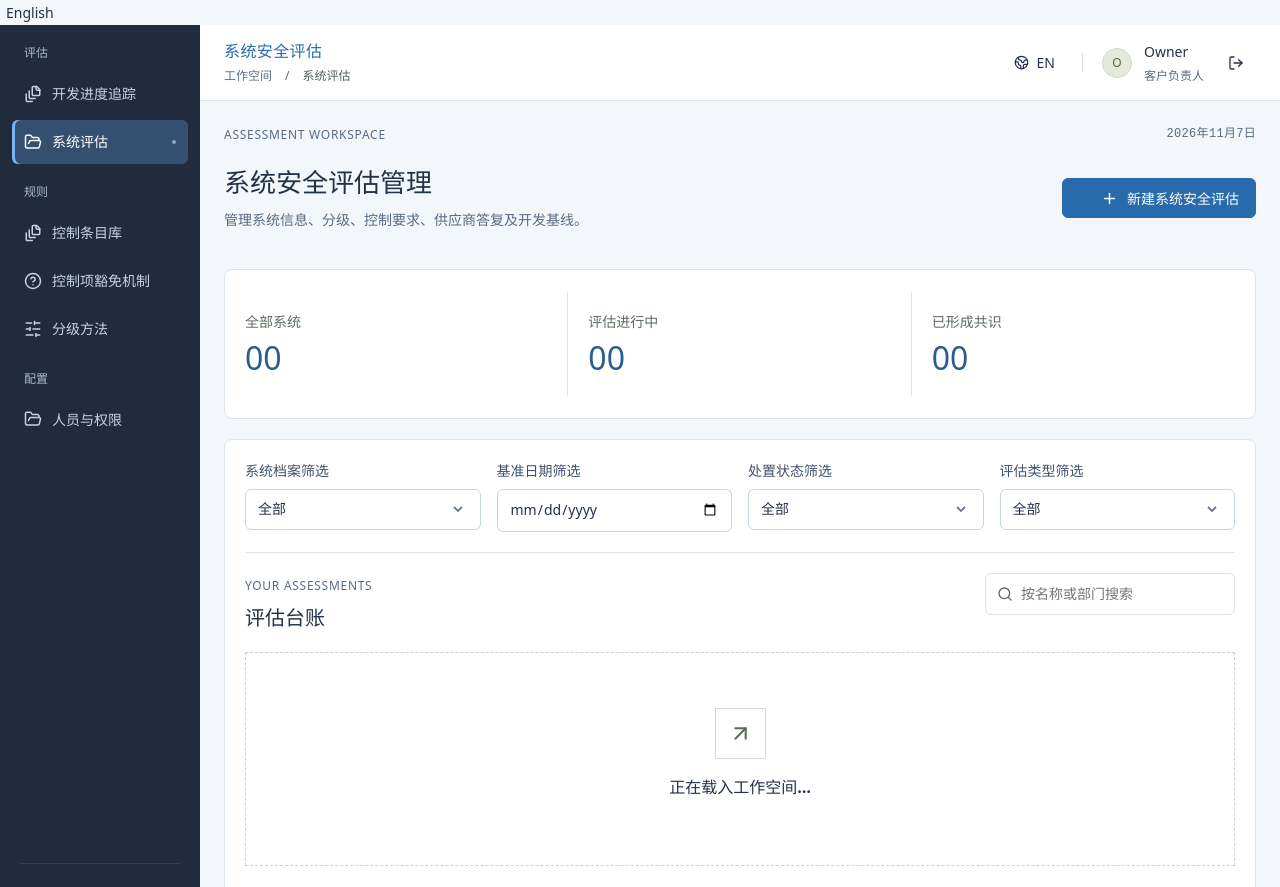
Test case: uses one creation flow and selects the system type inside the dialog
Click the button "新建系统安全评估": (1159, 198) [1062,178,1256,218]
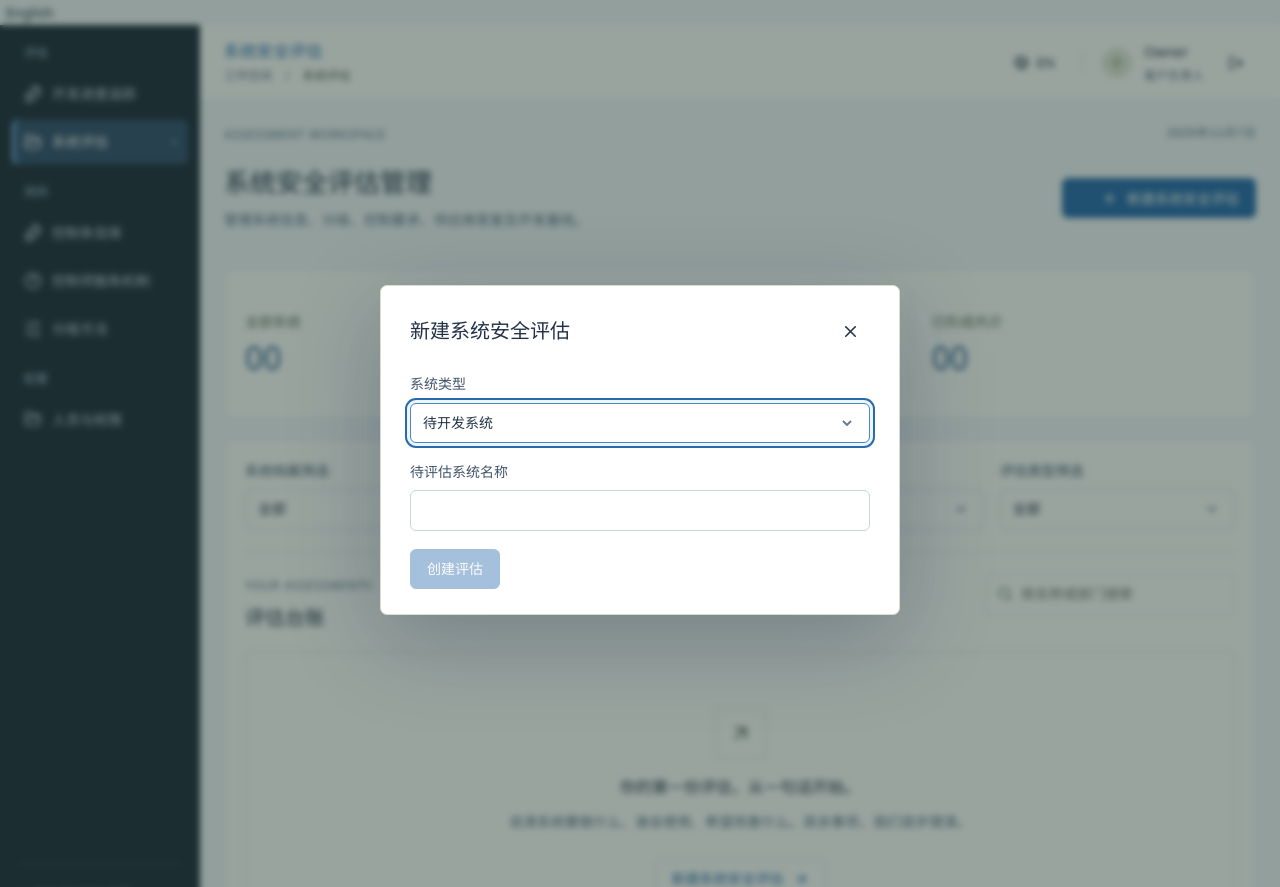
Result: the dialog "新建系统安全评估" is shown at [380,285,900,615]
Result: the dropdown labelled "系统类型" shows "待开发系统"
Result: the field labelled "待评估系统名称" is shown at [410,490,870,531]
Select "现有系统" in the dropdown labelled "系统类型": (640, 423) [410,403,870,443]
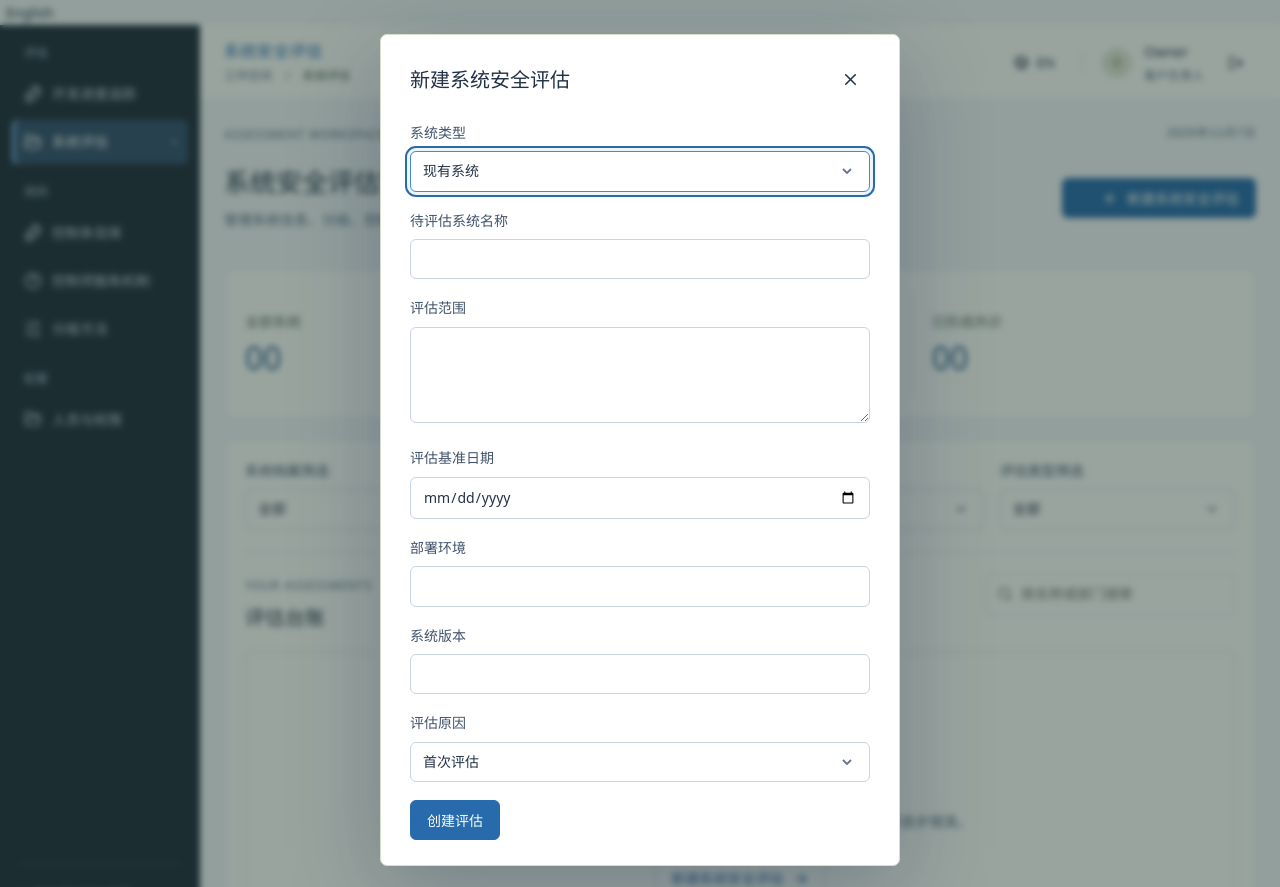
Result: the text box labelled "评估范围" is shown at [410,327,870,423]
